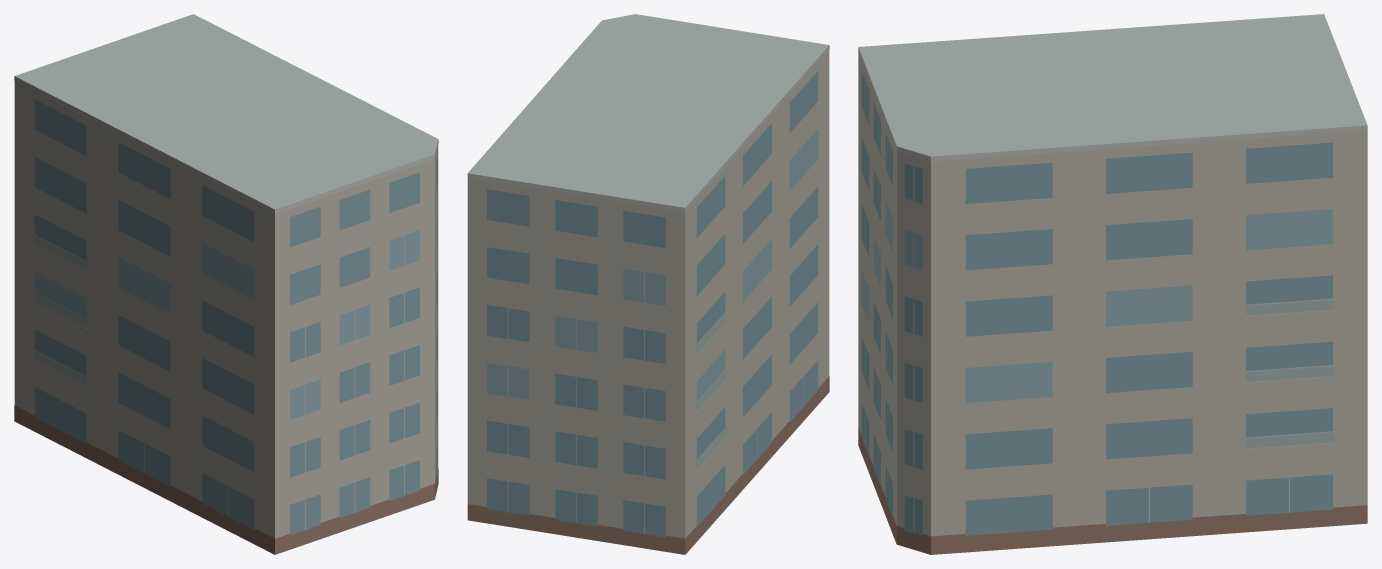
Rendered from survey-upis-32708378.glb.
The picture shows the model from 3 angles, left to right: view 1: azimuth 30°, elevation 25°; view 2: azimuth 150°, elevation 25°; view 3: azimuth 270°, elevation 25°; orthographic projection. The views are drawn at different scales.
Visible parts, largest first — view 1: survey-upis-32708378.tmp; view 2: survey-upis-32708378.tmp; view 3: survey-upis-32708378.tmp.
Boxes of the visible parts, x1=… form: survey-upis-32708378.tmp: x1=14, y1=14, x2=438, y2=554; survey-upis-32708378.tmp: x1=467, y1=14, x2=829, y2=554; survey-upis-32708378.tmp: x1=858, y1=14, x2=1367, y2=554.
Bounding box in the file's own units: 14.6 × 19 × 22.03.
